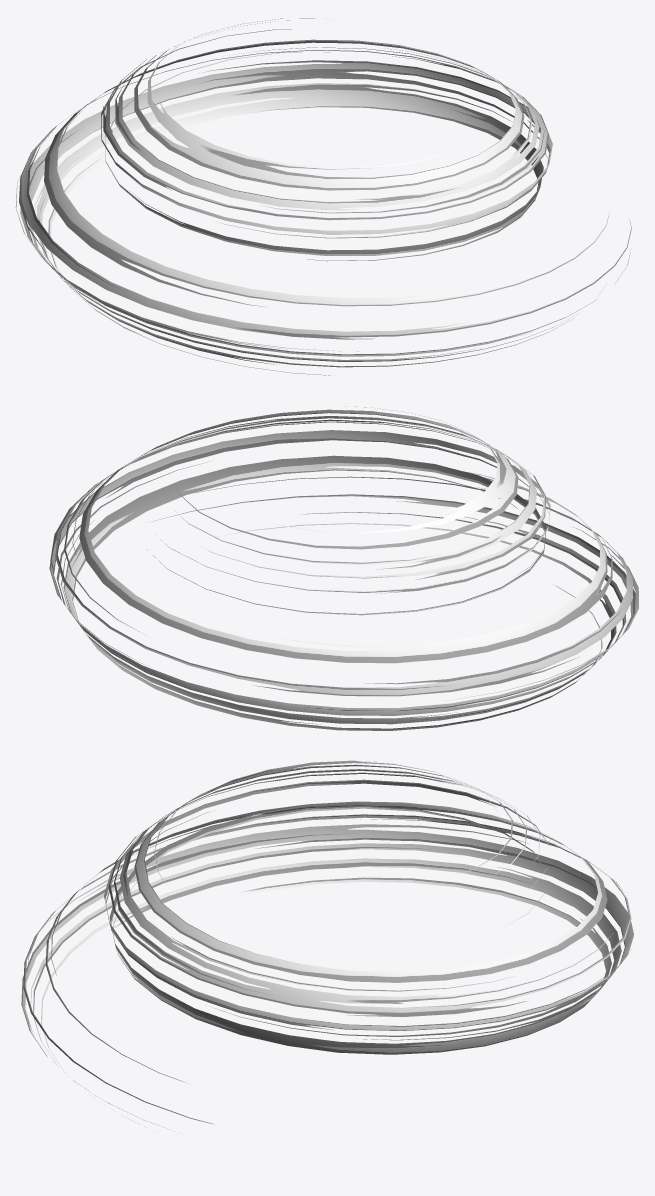
The model's file is eff_trail_08.FBX.
3 renders of one model, top to bottom at view 1: azimuth 30°, elevation 25°; view 2: azimuth 150°, elevation 25°; view 3: azimuth 270°, elevation 25°, orthographic. The views are drawn at different scales.
Visible parts, largest first — view 1: eff_trail_08; view 2: eff_trail_08; view 3: eff_trail_08.
Boxes of the visible parts, bbox=[...] form: eff_trail_08: bbox=[15, 18, 631, 375]; eff_trail_08: bbox=[49, 406, 638, 730]; eff_trail_08: bbox=[21, 760, 633, 1127].
Bounding box in the file's own units: 258 × 103 × 241.
Materials: 1 (1 with a texture image).
